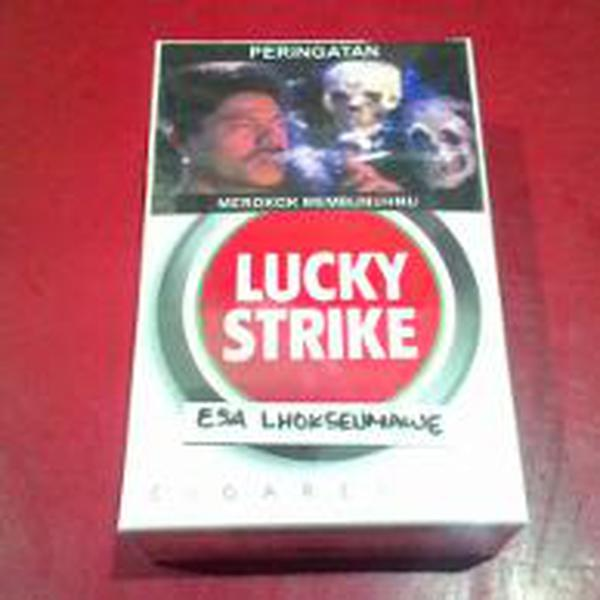lucky_strike_red: (148, 39, 478, 524)
